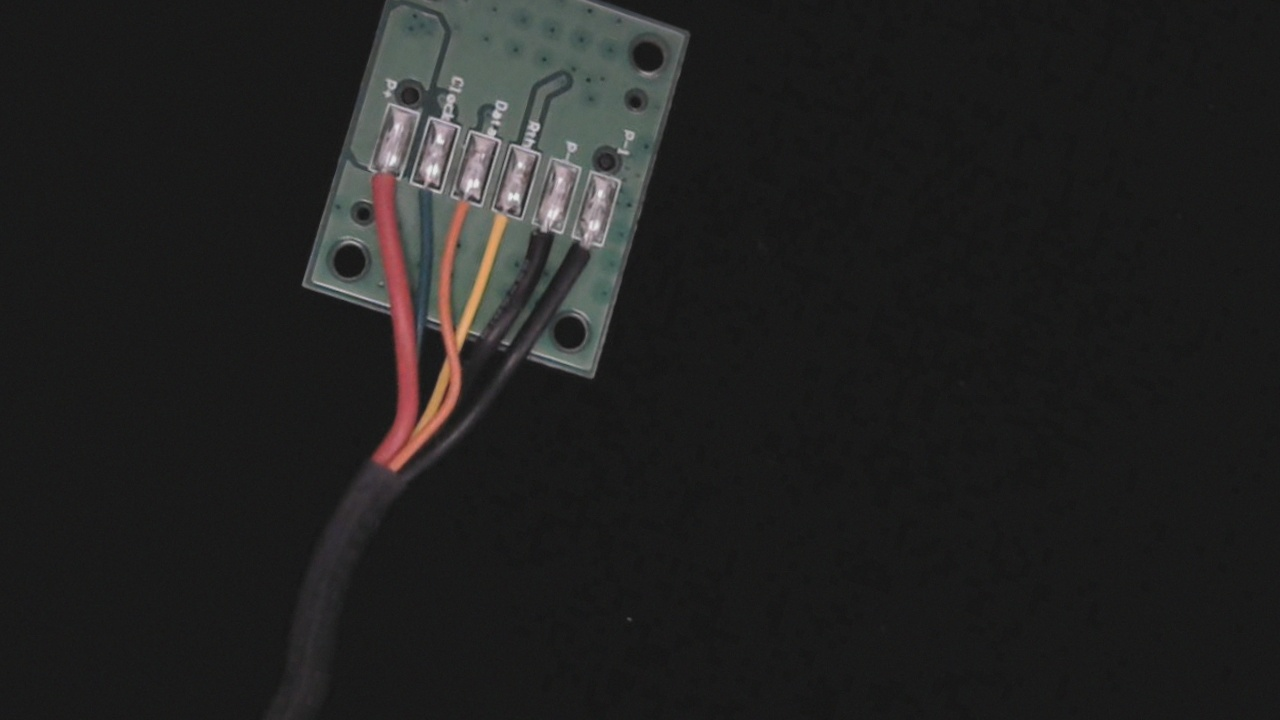Black: (513, 209, 568, 286)
Black1: (552, 222, 610, 304)
Green: (397, 164, 448, 232)
Orange: (431, 177, 488, 257)
Red: (351, 151, 409, 230)
Yellow: (474, 192, 528, 271)
